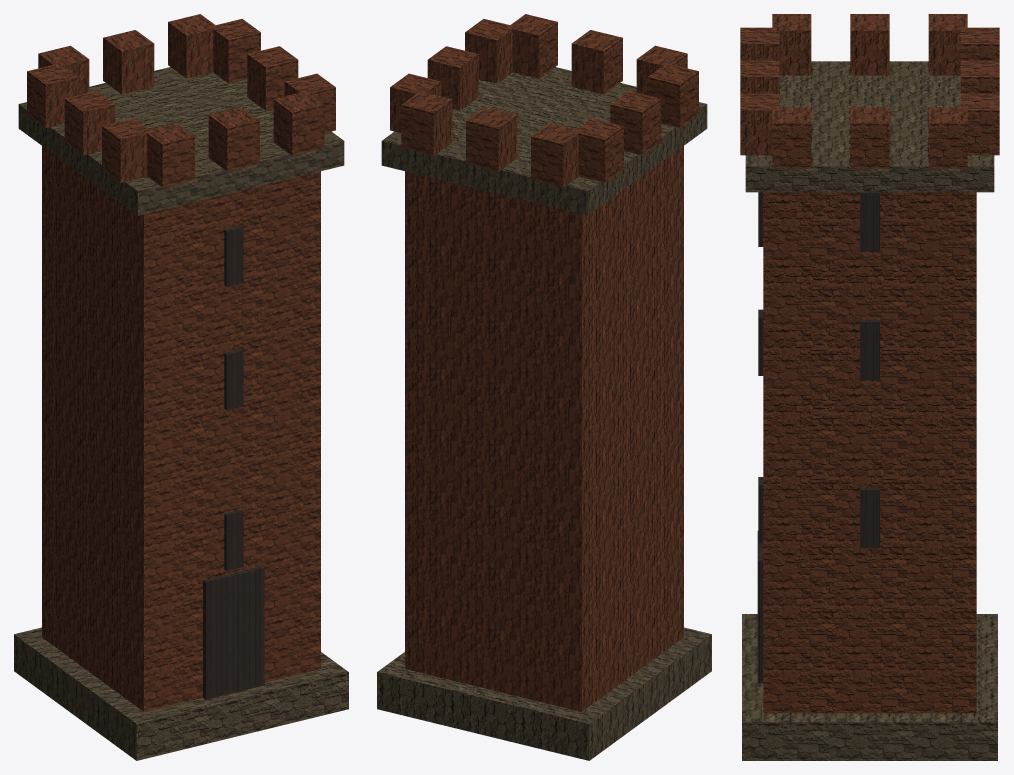
The model's file is tower_square_01.glb.
3 views of the same model, side by side, from view 1: azimuth 30°, elevation 25°; view 2: azimuth 150°, elevation 25°; view 3: azimuth 270°, elevation 25° (orthographic). The views are drawn at different scales.
Parts seen in each view (by area): view 1: tower_square_01; view 2: tower_square_01; view 3: tower_square_01.
Part boxes in pixels (x1=…): tower_square_01: x1=14, y1=14, x2=348, y2=760; tower_square_01: x1=377, y1=14, x2=711, y2=760; tower_square_01: x1=740, y1=14, x2=999, y2=760.
Bounding box in the file's own units: 3.65 × 9.9 × 3.65.
3 materials, 3 textured.
